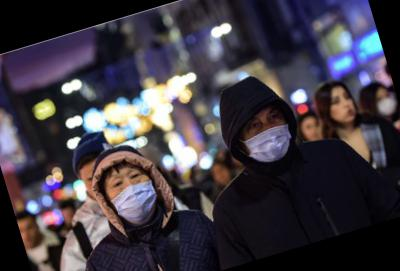with_mask: (99, 162, 165, 233), (235, 100, 300, 169), (373, 88, 400, 118)
without_mask: (327, 87, 363, 130), (19, 220, 45, 251)
